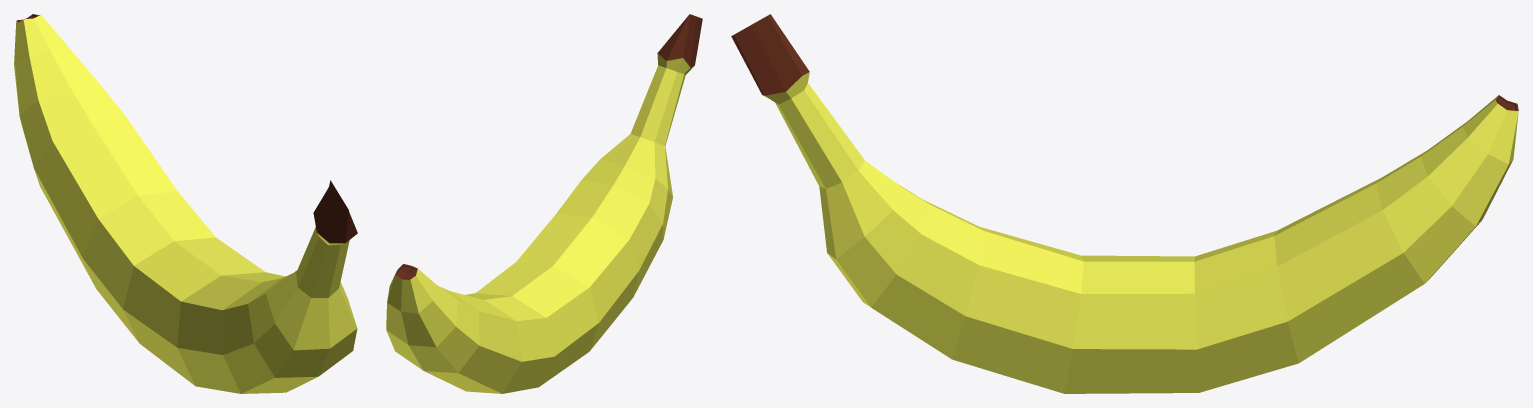
The model's file is Banana.fbx.
3 views of the same model, side by side, from view 1: azimuth 30°, elevation 25°; view 2: azimuth 150°, elevation 25°; view 3: azimuth 270°, elevation 25° (orthographic). The views are drawn at different scales.
Parts seen in each view (by area): view 1: Banana; view 2: Banana; view 3: Banana.
Boxes of the visible parts, left/top/right/bottom form: Banana: left=14, top=14, right=357, bottom=393; Banana: left=386, top=14, right=702, bottom=393; Banana: left=731, top=14, right=1518, bottom=393.
Bounding box in the file's own units: 2.48 × 6.47 × 13.03.
